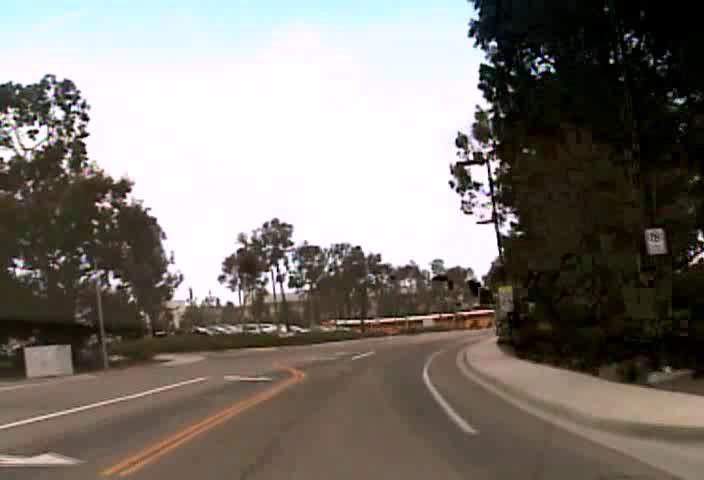schoolSpeedLimit25: (497, 284, 514, 313)
